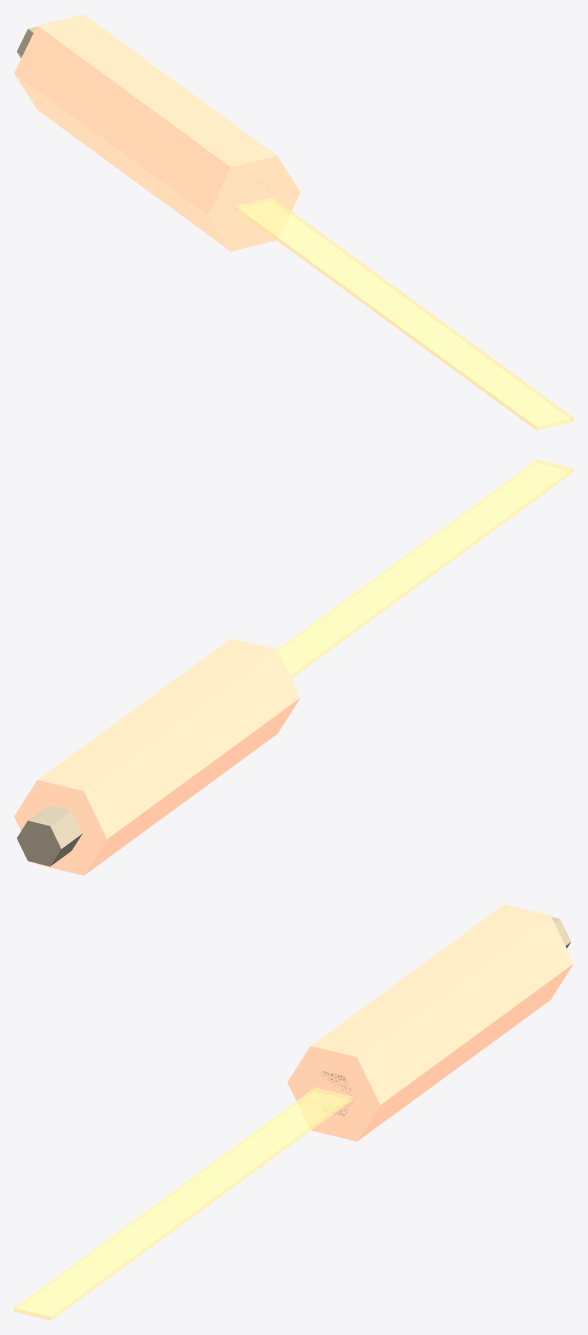
Rendered from Proj_AegisBolt.fbx.
3 renders of one model, top to bottom at view 1: azimuth 30°, elevation 25°; view 2: azimuth 150°, elevation 25°; view 3: azimuth 330°, elevation 25°, orthographic.
Visible parts, largest first — view 1: Bolt_Body, Bolt_Trail; view 2: Bolt_Body, Bolt_Trail, Bolt_Core; view 3: Bolt_Body, Bolt_Trail.
Part boxes in pixels (x1=…): Bolt_Body: x1=14, y1=14, x2=300, y2=251; Bolt_Trail: x1=235, y1=197, x2=573, y2=430; Bolt_Body: x1=14, y1=638, x2=300, y2=875; Bolt_Trail: x1=277, y1=459, x2=573, y2=678; Bolt_Core: x1=17, y1=805, x2=82, y2=866; Bolt_Body: x1=287, y1=904, x2=573, y2=1141; Bolt_Trail: x1=14, y1=1087, x2=352, y2=1320.
Bounding box in the file's own units: 0.05 × 0.0433 × 0.48.
